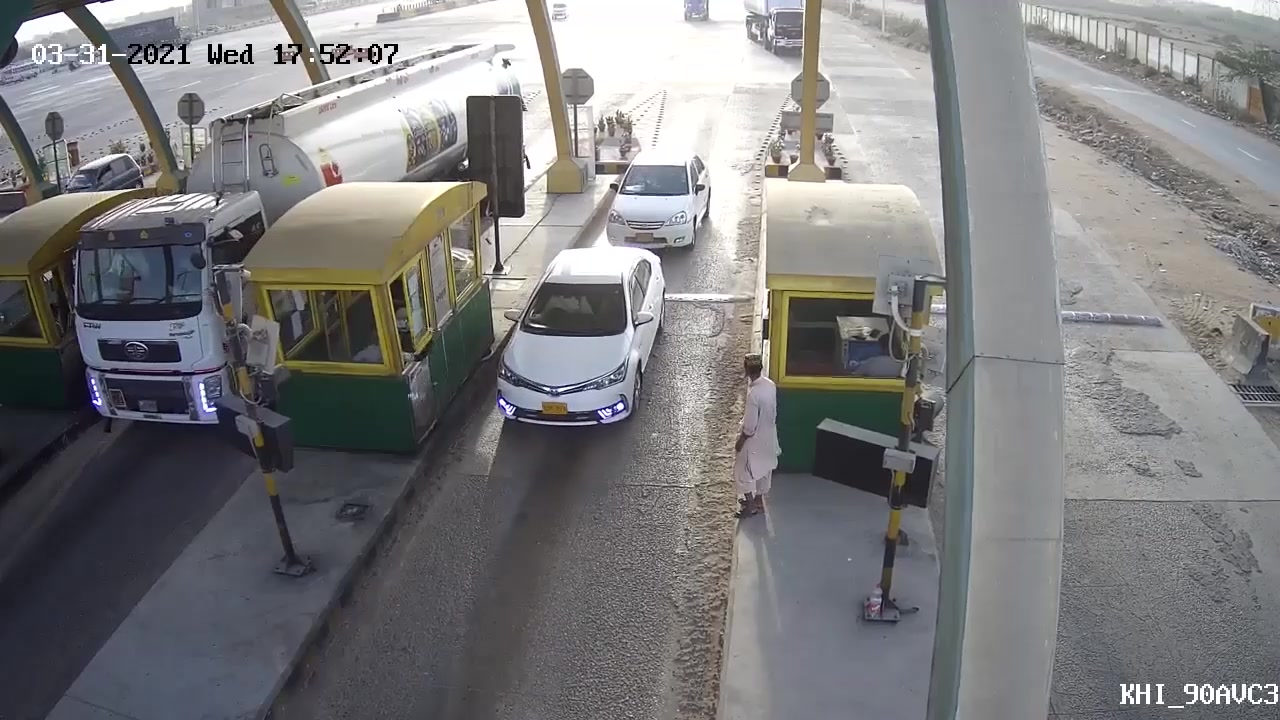F1: (470, 243, 665, 439), (600, 147, 715, 250)
